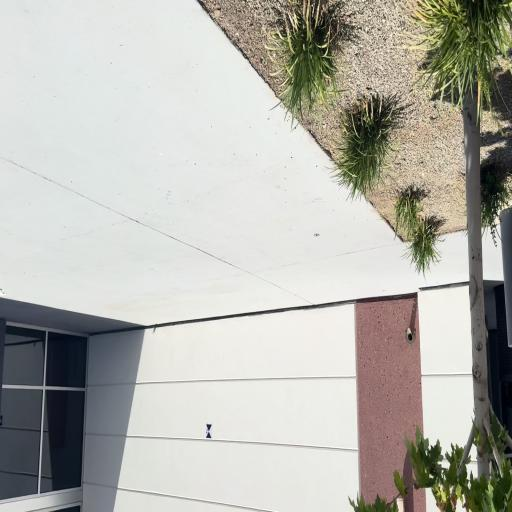target7: (206, 423, 212, 439)
